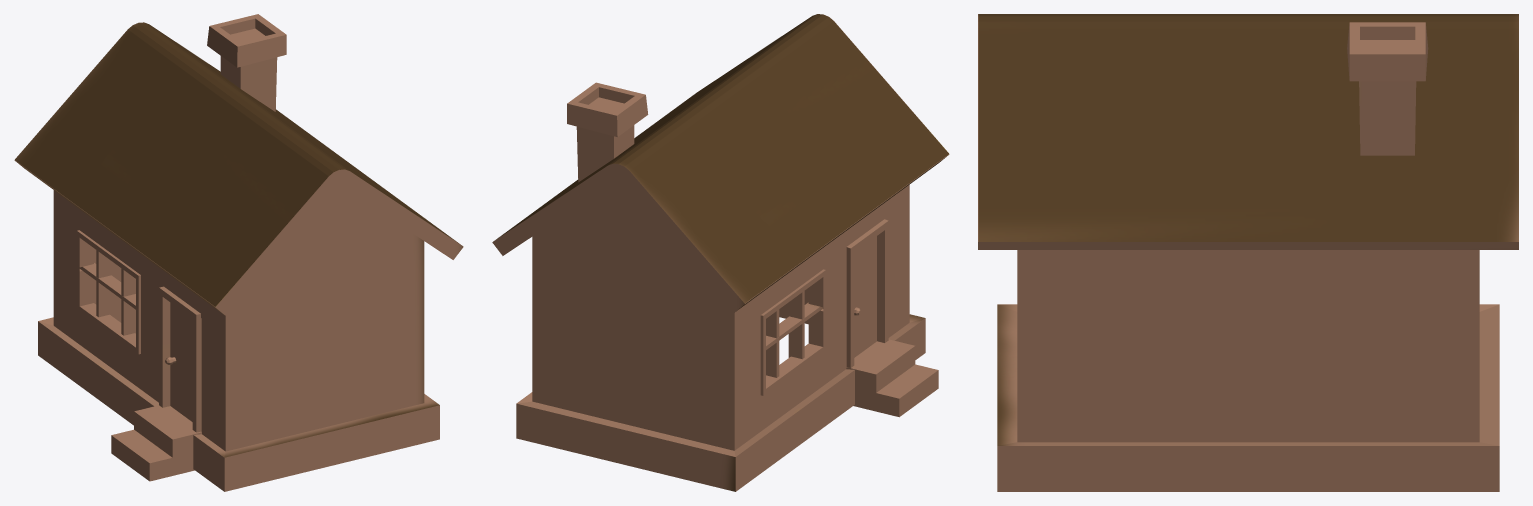
The model's file is house.glb.
3 views of the same model, side by side, from view 1: azimuth 30°, elevation 25°; view 2: azimuth 150°, elevation 25°; view 3: azimuth 270°, elevation 25° (orthographic). The views are drawn at different scales.
Visible parts, largest first — view 1: chimney; view 2: chimney; view 3: chimney.
Part boxes in pixels (x1=…): chimney: x1=14, y1=14, x2=463, y2=491; chimney: x1=492, y1=14, x2=949, y2=491; chimney: x1=978, y1=14, x2=1518, y2=491.
Size of the model in its own units: 11.11 by 12.17 by 14.04.
Materials: 1 (1 with a texture image).
